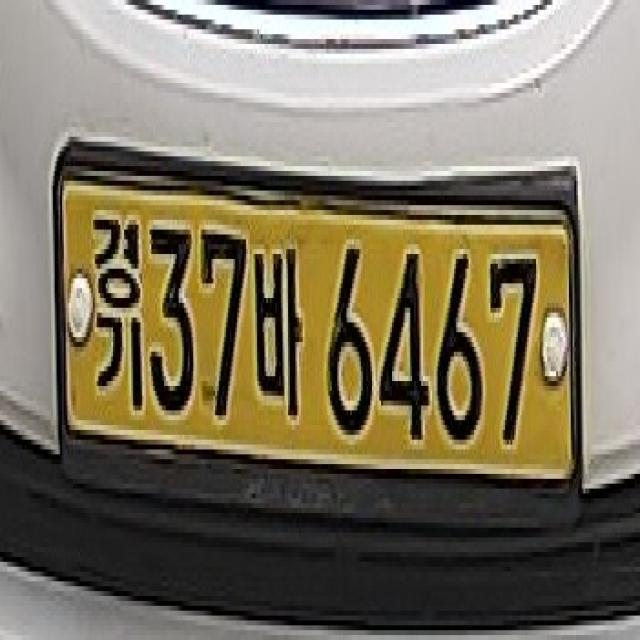plat: (53, 134, 584, 505)
